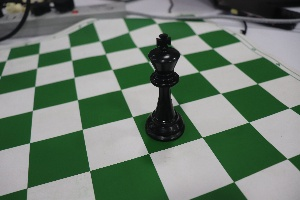black_king: (131, 19, 188, 146)
